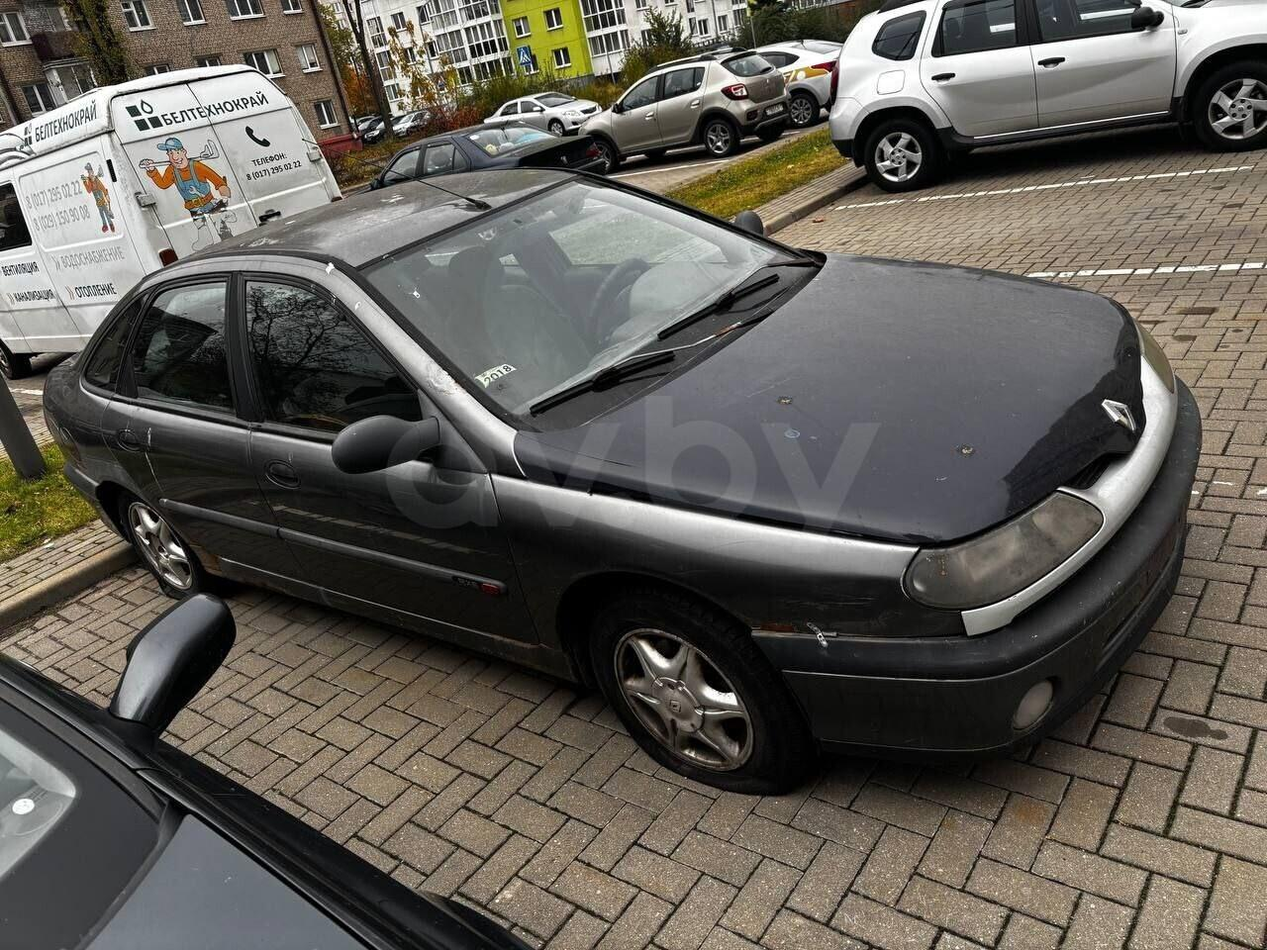Lahuna_1993-1999: (42, 166, 1214, 792)
